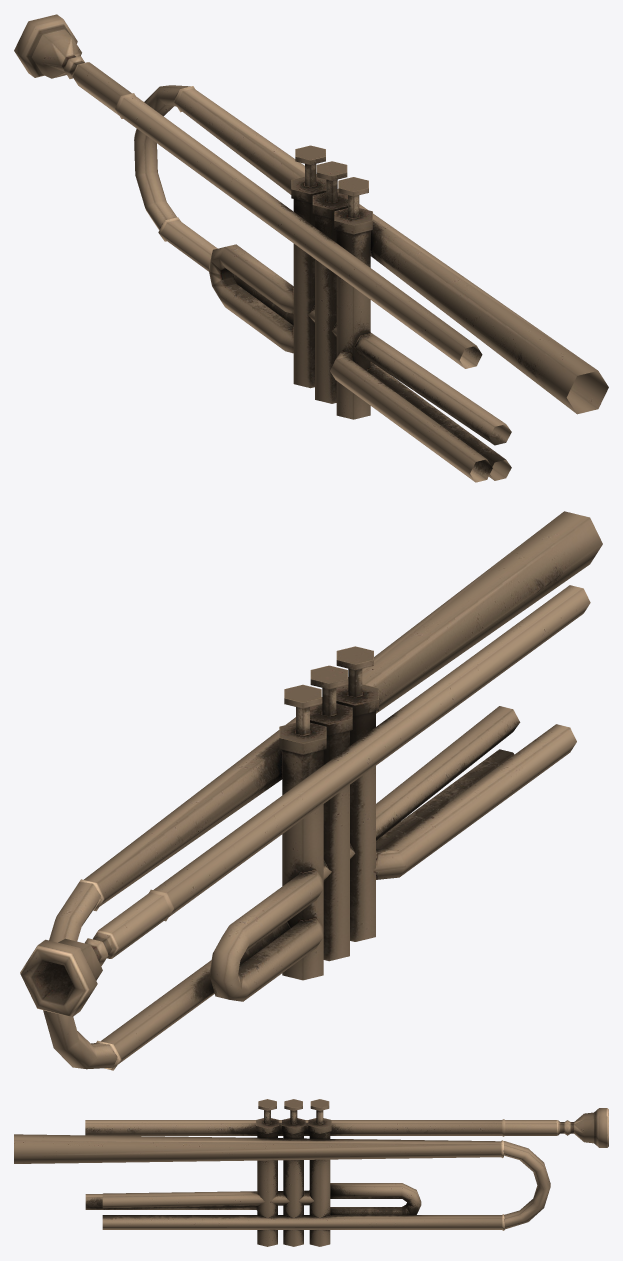
The model's file is trumpet.glb.
3 renders of one model, top to bottom at view 1: azimuth 30°, elevation 25°; view 2: azimuth 150°, elevation 25°; view 3: azimuth 270°, elevation 25°, orthographic. The views are drawn at different scales.
Visible parts, largest first — view 1: defaultMaterial; view 2: defaultMaterial; view 3: defaultMaterial.
Boxes of the visible parts, x1,y1,x2,y2 form: defaultMaterial: [14, 14, 608, 482]; defaultMaterial: [20, 511, 602, 1070]; defaultMaterial: [14, 1099, 608, 1246].
Bounding box in the file's own units: 0.2162 × 0.434 × 1.69.
1 material, 1 textured.
